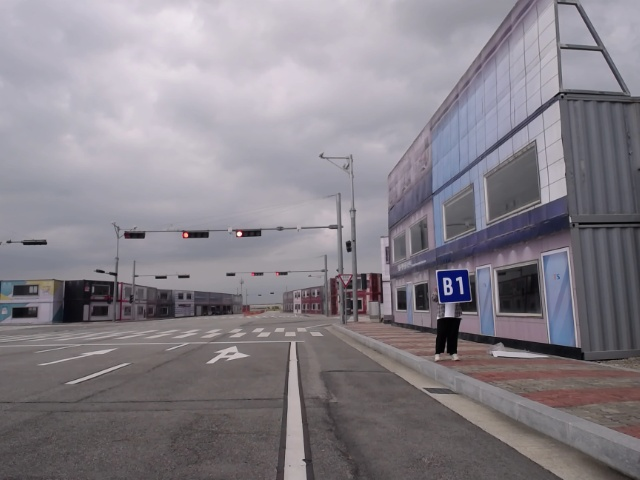delivery_b1: (436, 269, 472, 303)
red_4: (183, 231, 209, 238), (236, 230, 262, 237), (251, 272, 264, 276), (276, 272, 288, 275)
